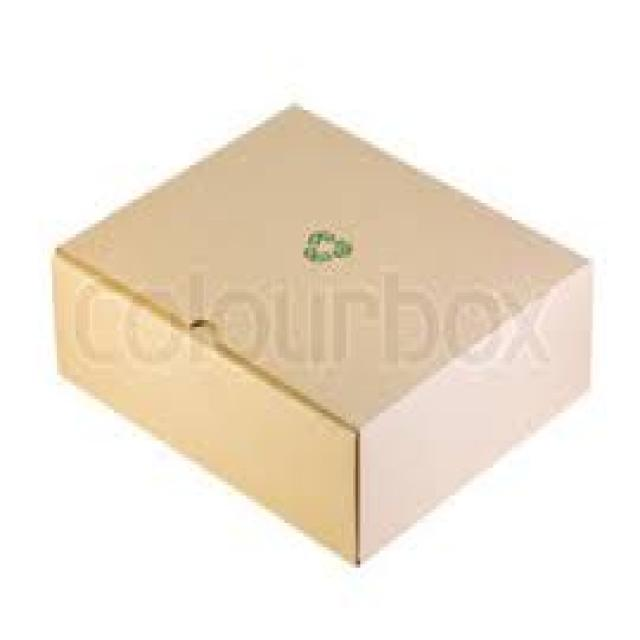cardboard: (55, 100, 590, 557)
